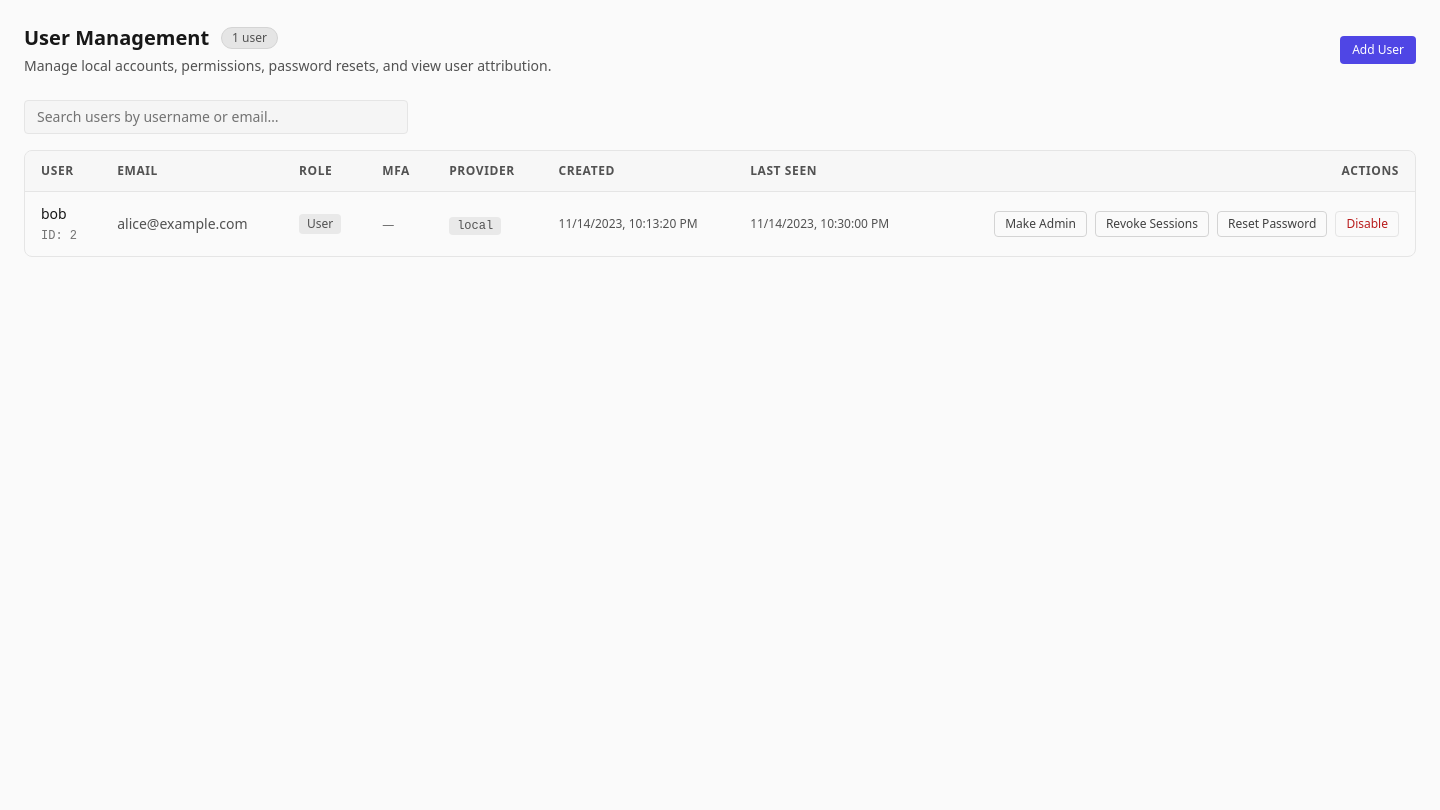
Test: UsersPage row actions › opens ConfirmDialog for disable instead of window.confirm
Click the button "Disable".
click(1367, 224)  # box left=1335, top=211, right=1399, bottom=237
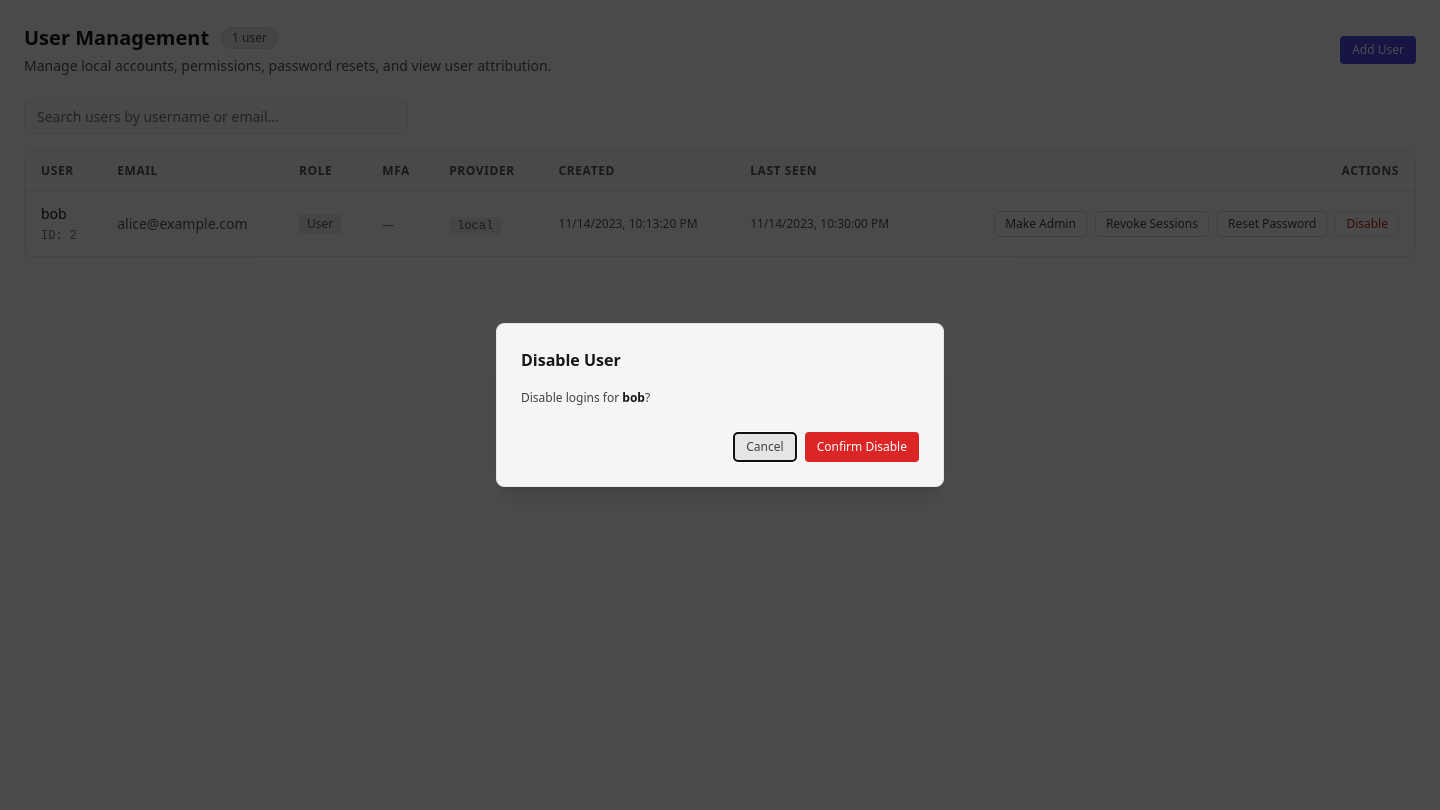
Check: the dialog "Disable User Disable logins for bob? Cancel Confirm Disable" is shown, box left=496, top=323, right=944, bottom=487
Click the button "Cancel".
click(765, 447)  # box left=733, top=432, right=797, bottom=462
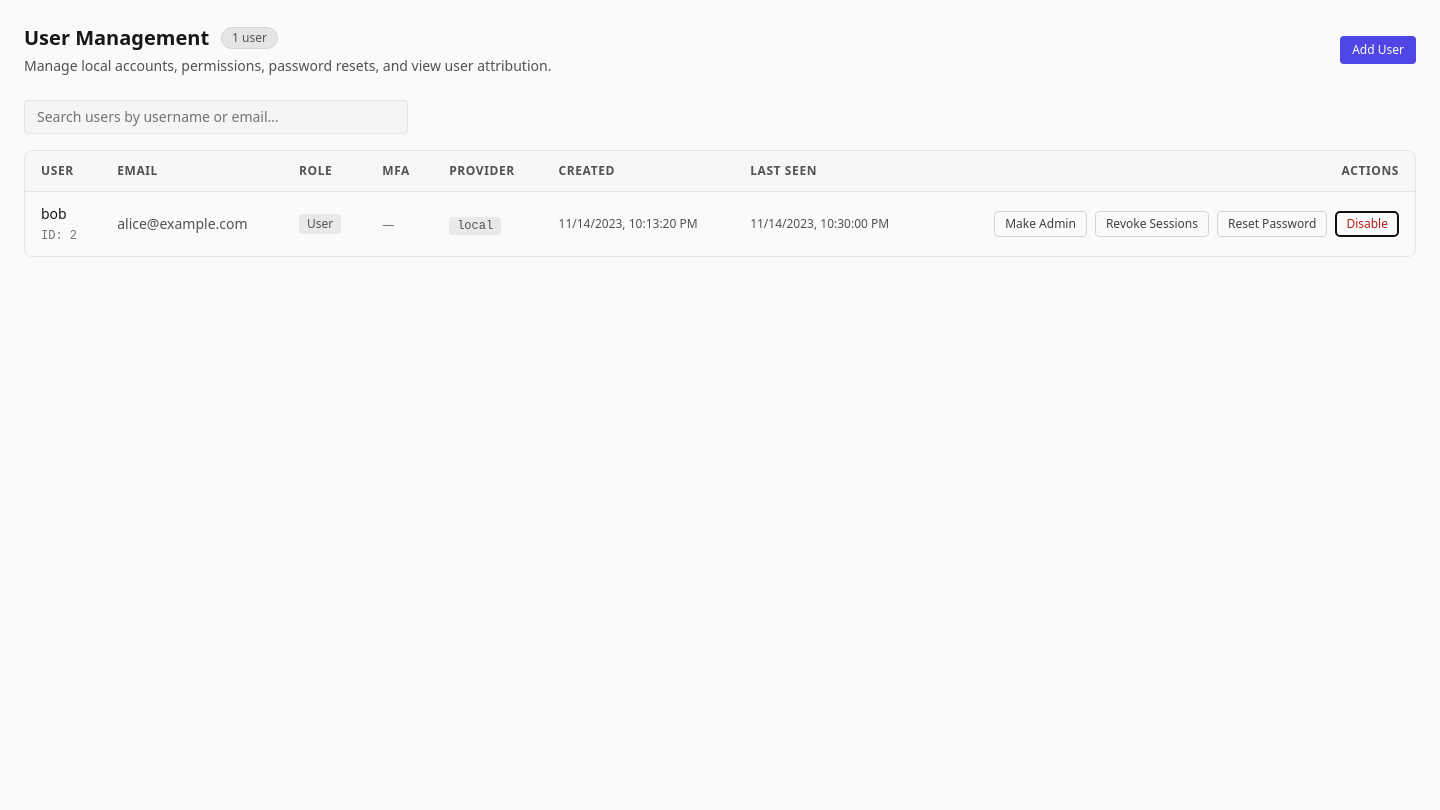
Click the button "Disable".
click(1367, 224)  # box left=1335, top=211, right=1399, bottom=237
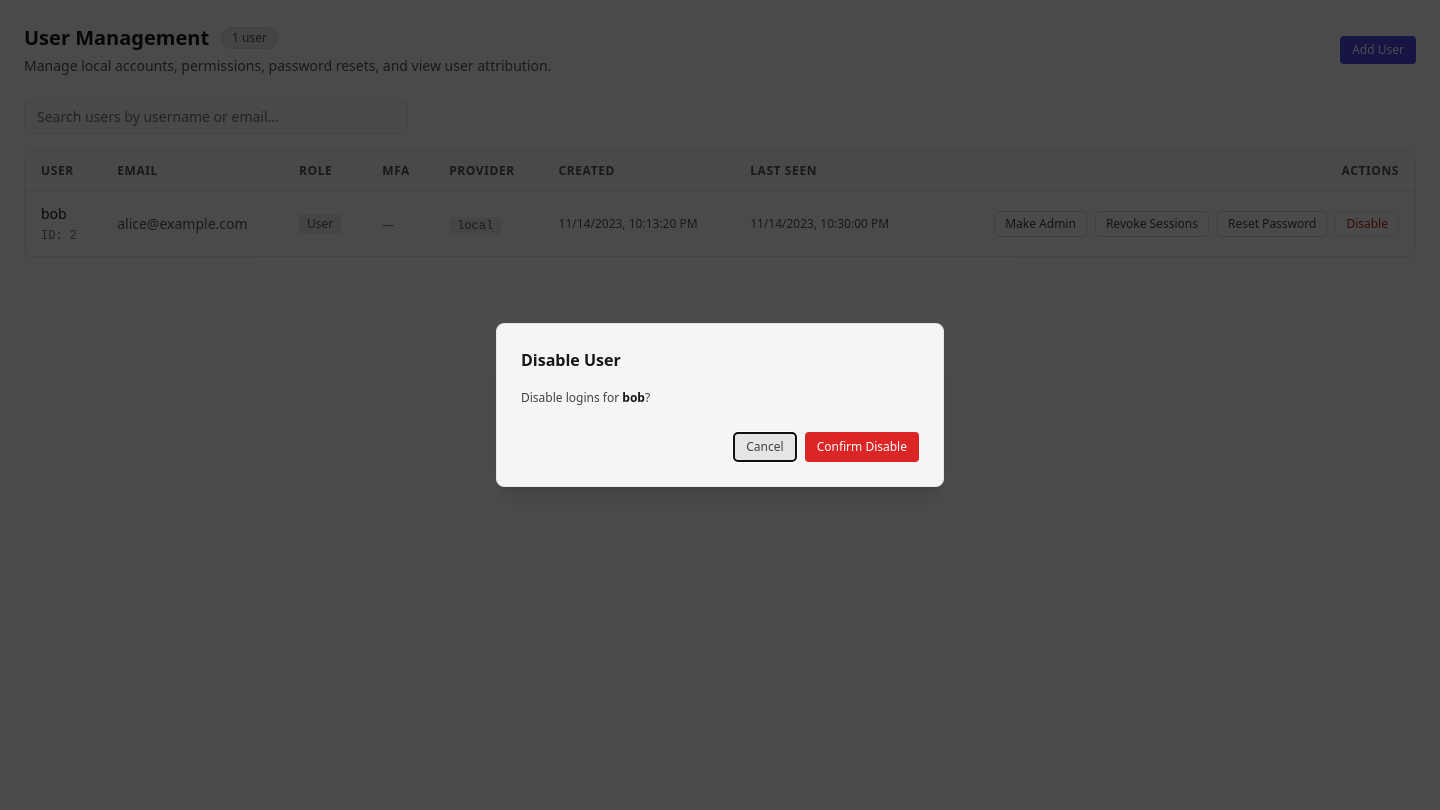
Click the button "Confirm Disable".
click(862, 447)  # box left=805, top=432, right=919, bottom=462
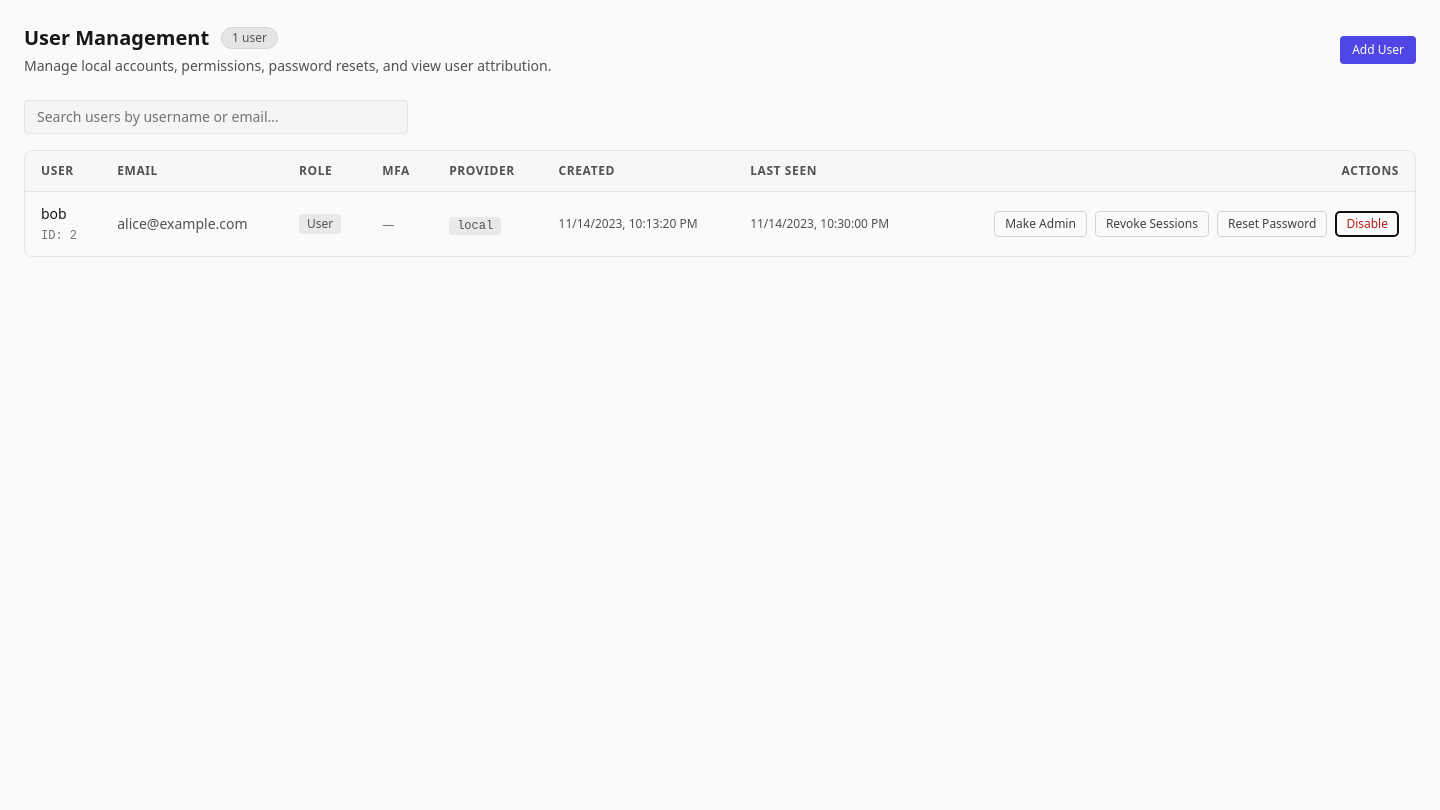
Check: the heading "Disable User" is gone
